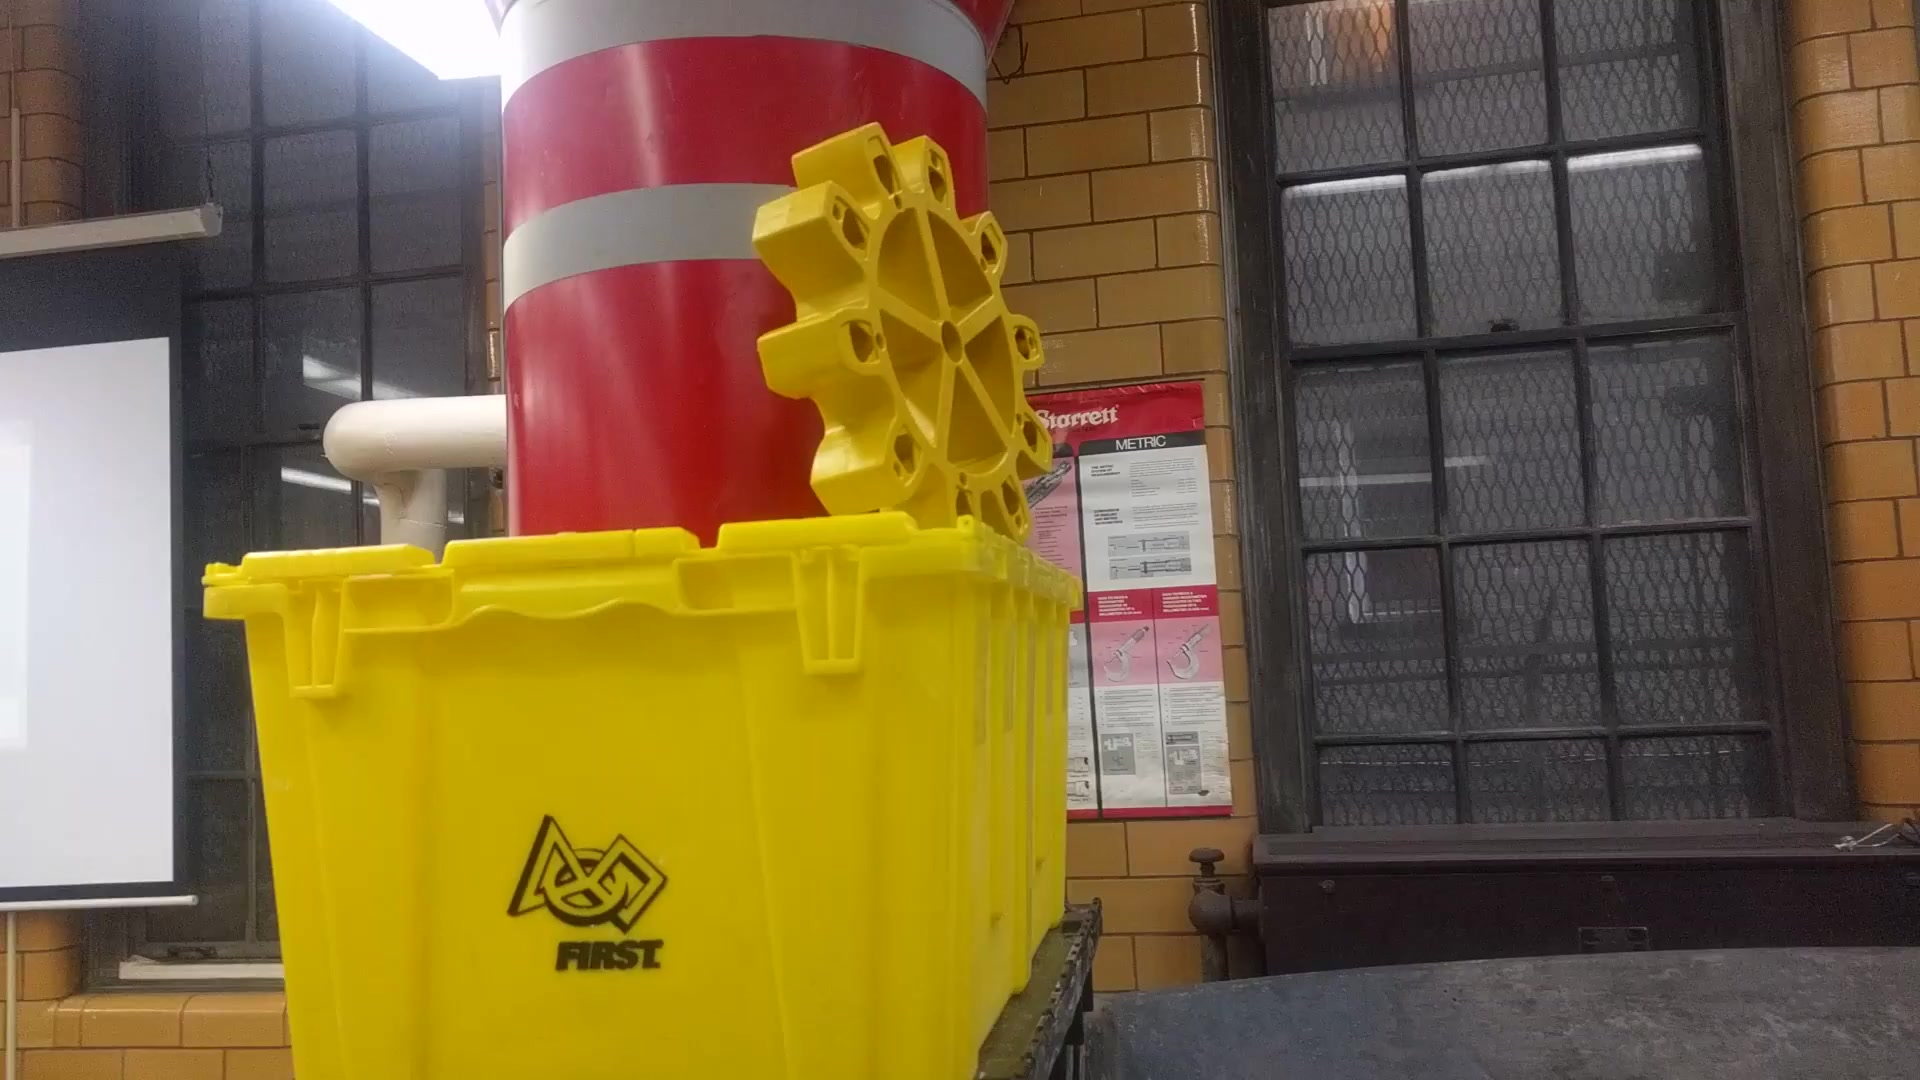gear: (742, 116, 1075, 585)
